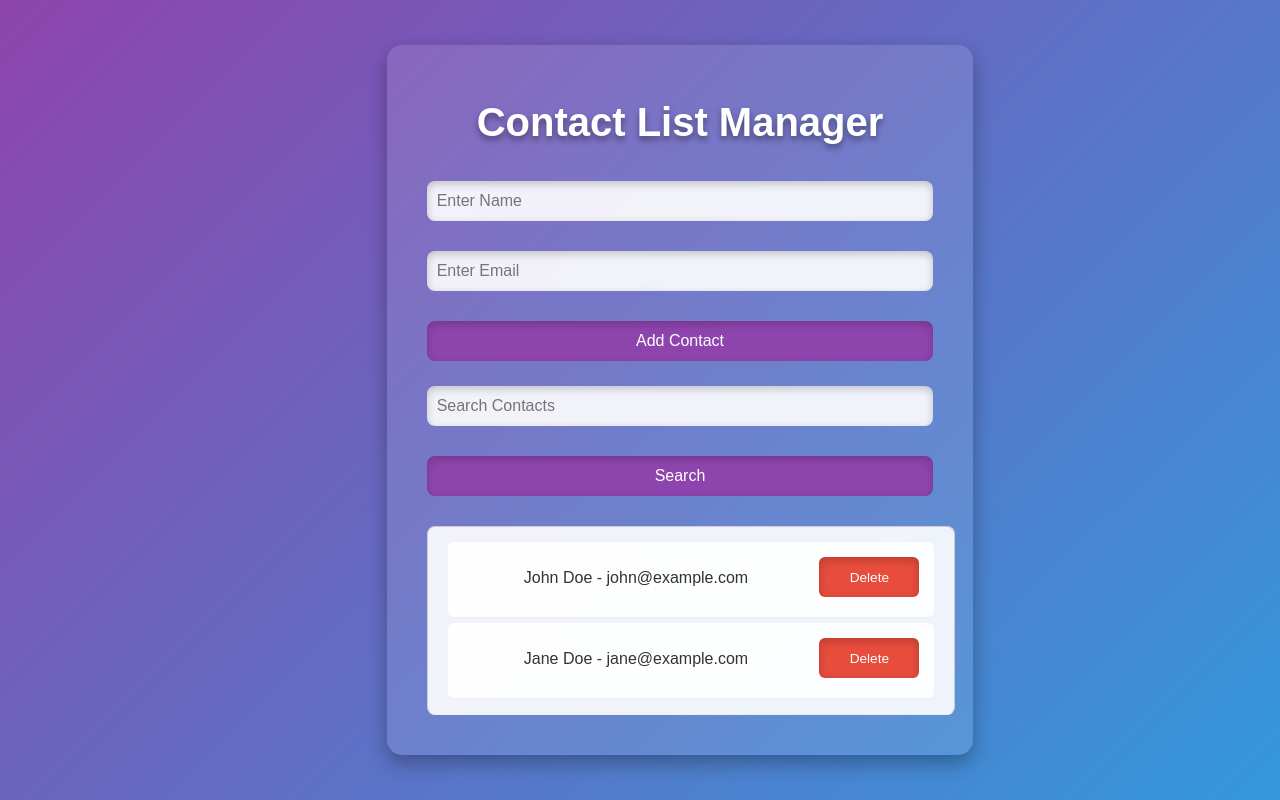
Scenario: deletes a contact from the list
Expected: the text "John Doe - john@example.com" is shown, [524, 569, 748, 586]
Expected: the text "Jane Doe - jane@example.com" is shown, [524, 650, 748, 667]
# Click the "Delete" button for John Doe
Click the button "Delete" next to "john@example.com": (869, 577) [819, 557, 919, 597]
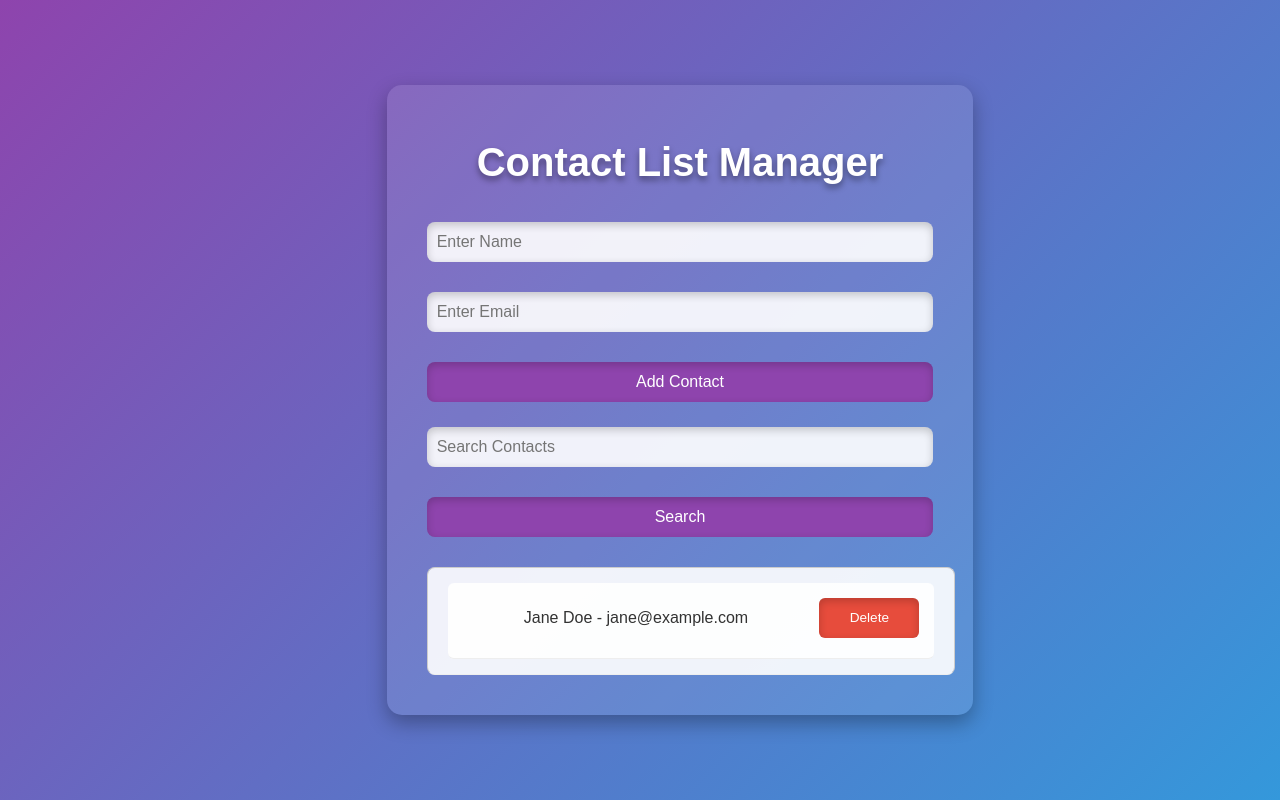
Expected: the text "John Doe - john@example.com" is gone
